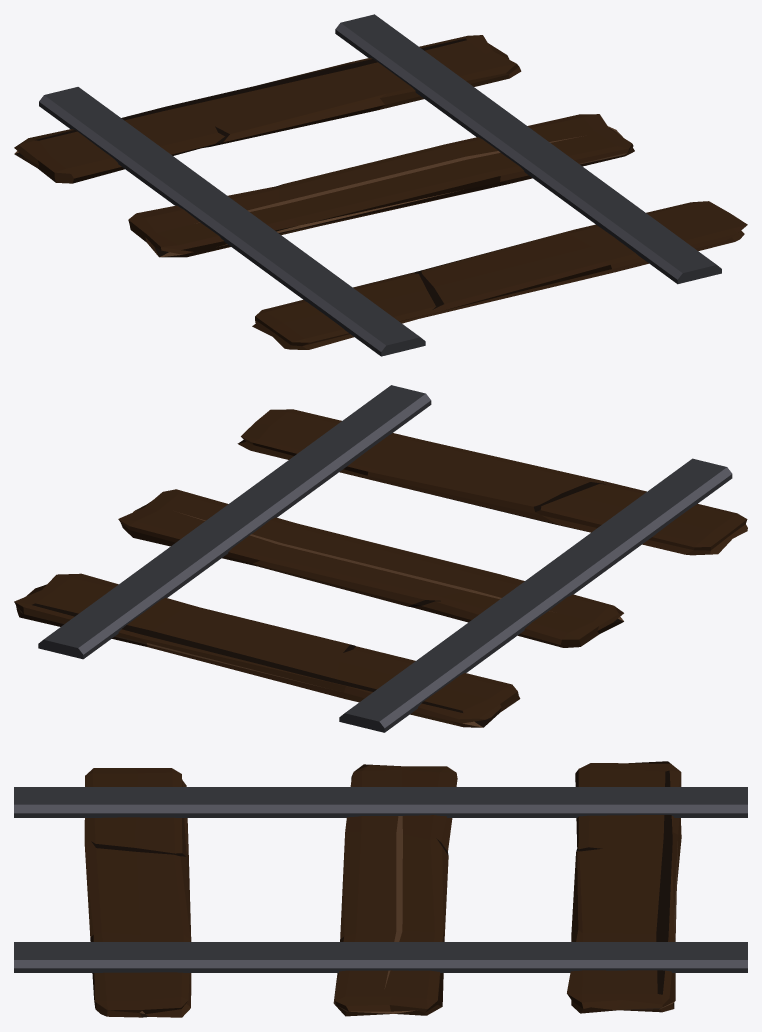
Rendered from TrainTrack_Straight_01.glb.
3 renders of one model, top to bottom at view 1: azimuth 30°, elevation 25°; view 2: azimuth 150°, elevation 25°; view 3: azimuth 270°, elevation 25°, orthographic. The views are drawn at different scales.
Visible parts, largest first — view 1: TrainTrack_Straight_01; view 2: TrainTrack_Straight_01; view 3: TrainTrack_Straight_01.
Part boxes in pixels (left/top/right/bottom): TrainTrack_Straight_01: left=14, top=14, right=747, bottom=356; TrainTrack_Straight_01: left=14, top=385, right=747, bottom=732; TrainTrack_Straight_01: left=14, top=761, right=747, bottom=1017.
Size of what is drawn, in the model's own units: 1.6 by 0.0631 by 2.
1 material, 1 textured.
